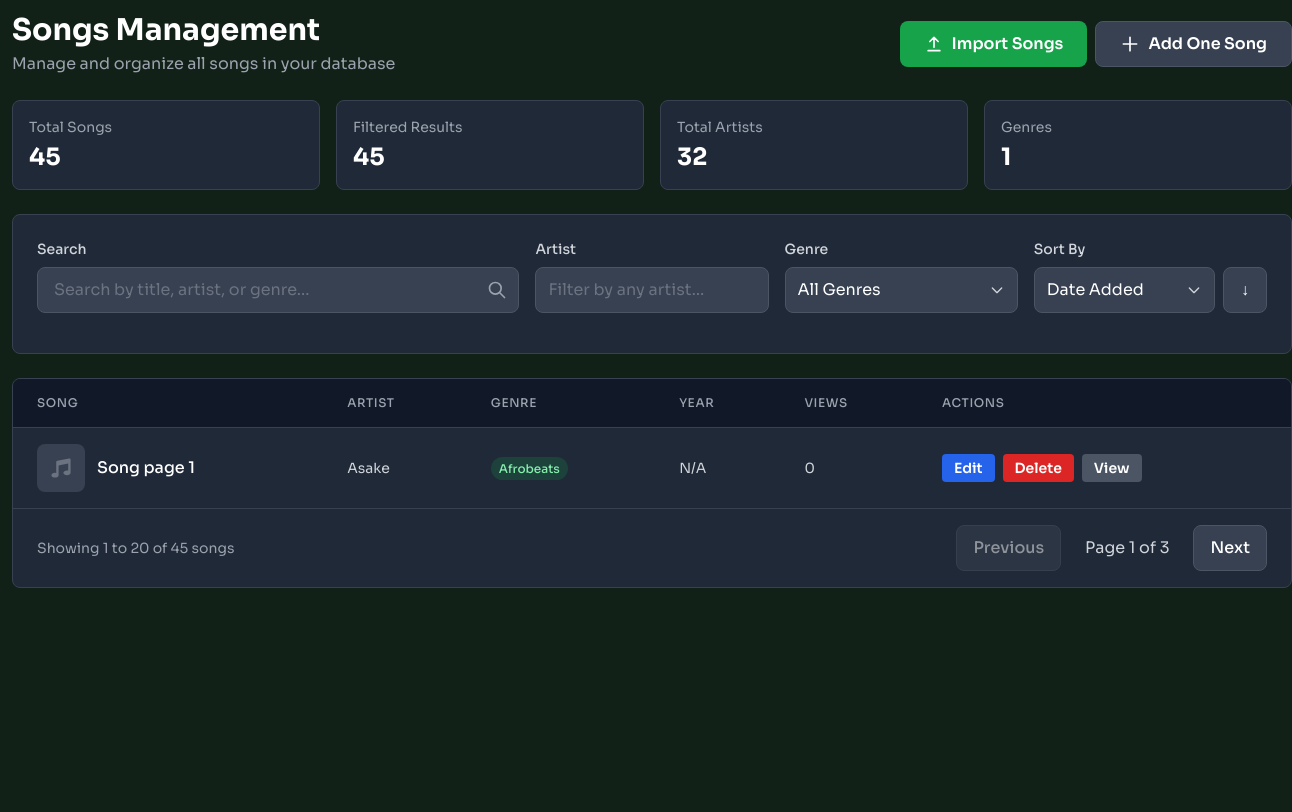
Test: SongsManager › sends search and artist filters to the server rather than filtering the current page
Type "Asake" into the field with placeholder "Search by title, artist, or genre...".
click(278, 290); type("Asake")  # box [37,267,519,313]
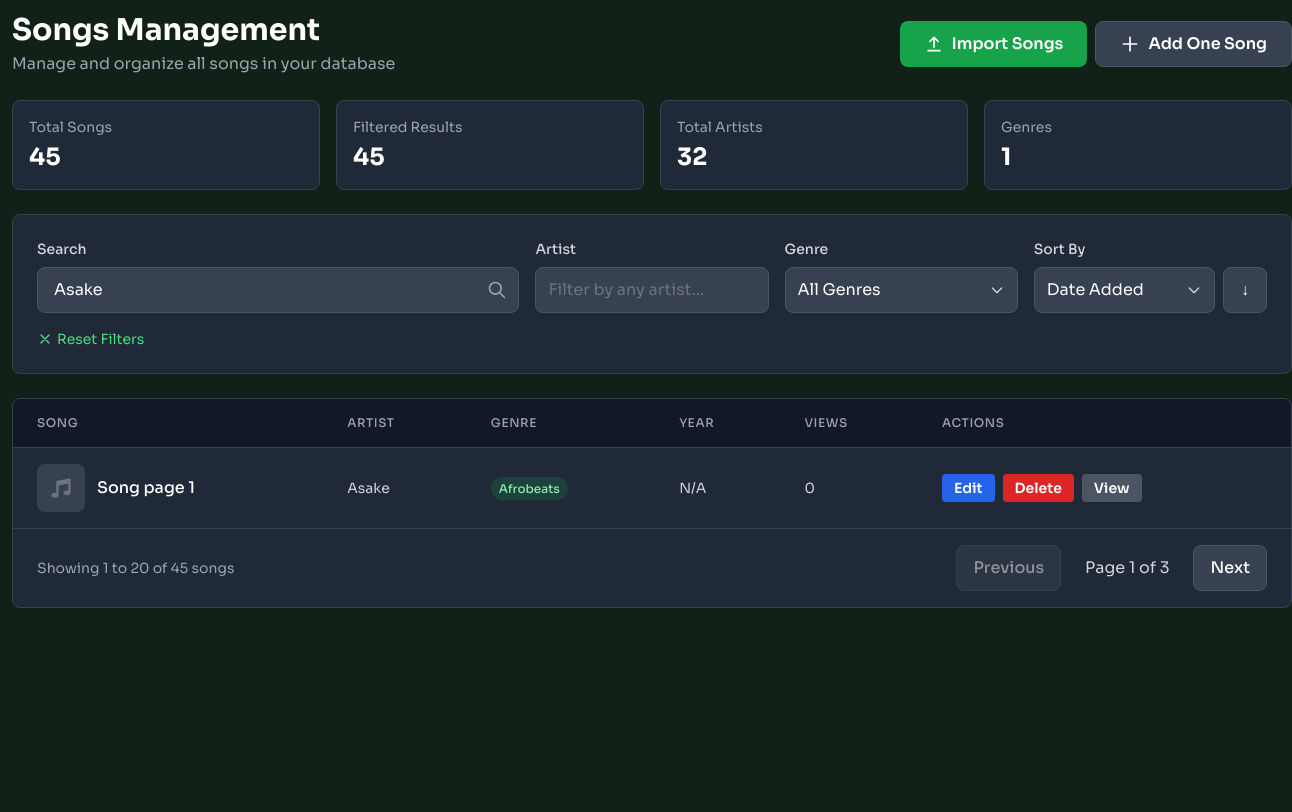
Type "Asake" into the field with placeholder "Filter by any artist…".
click(652, 290); type("Asake")  # box [535,267,769,313]
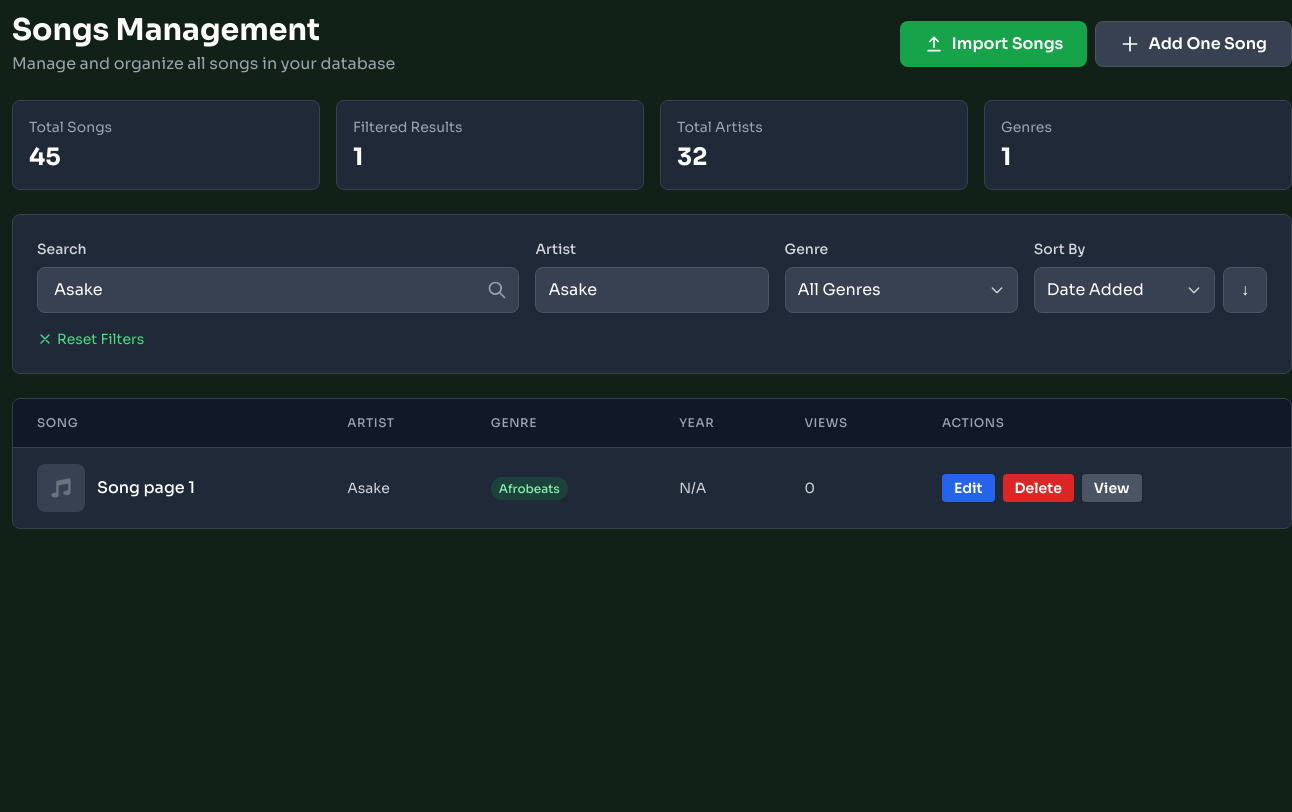
expect the text "1" below "Filtered Results" is shown: met, box [353,142,363,172]
